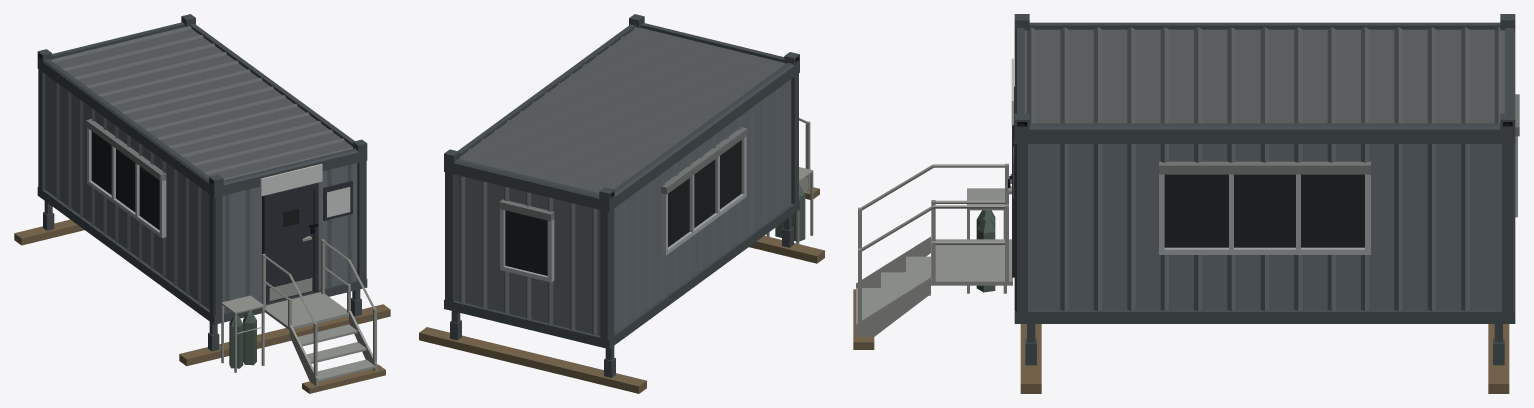
The model's file is site-cabin-e9ee10.glb.
3 renders of one model, left to right at view 1: azimuth 30°, elevation 25°; view 2: azimuth 150°, elevation 25°; view 3: azimuth 270°, elevation 25°, orthographic. The views are drawn at different scales.
Parts seen in each view (by area): view 1: site-cabin-e9ee10; view 2: site-cabin-e9ee10; view 3: site-cabin-e9ee10.
Boxes of the visible parts, x1,y1,x2,y2 form: site-cabin-e9ee10: [14, 14, 390, 393]; site-cabin-e9ee10: [419, 14, 824, 393]; site-cabin-e9ee10: [853, 14, 1519, 393].
Size of the model in its own units: 4 by 3.39 by 7.98.
